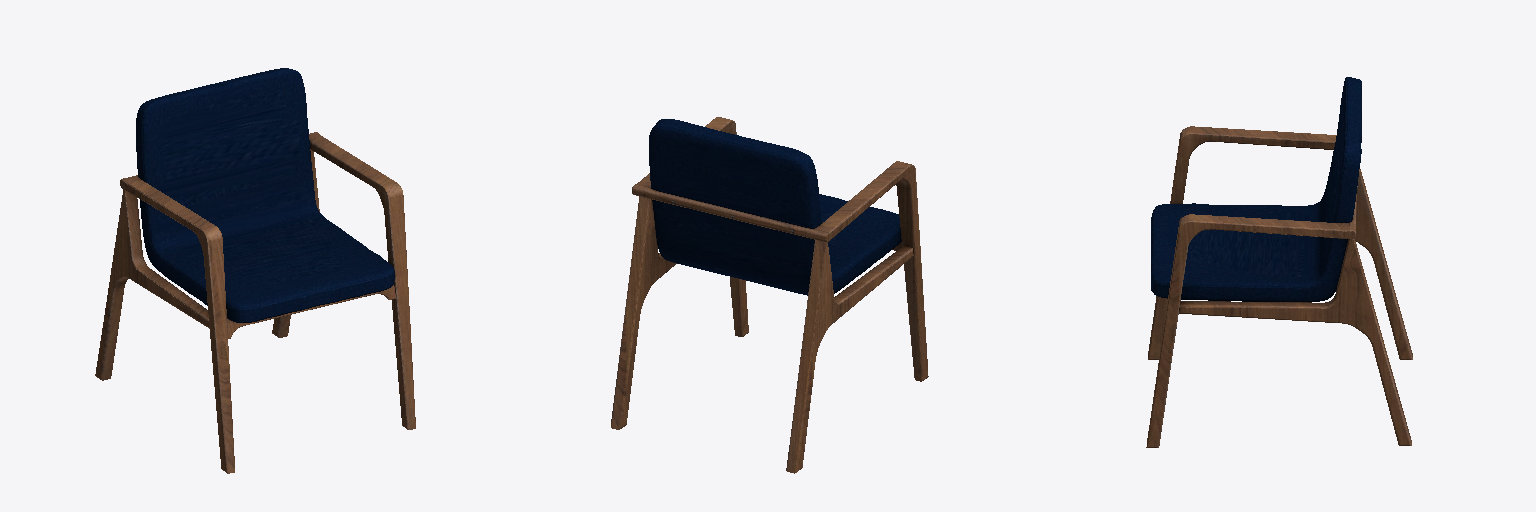
3 views of the same model, side by side, from view 1: azimuth 30°, elevation 25°; view 2: azimuth 150°, elevation 25°; view 3: azimuth 270°, elevation 25° (orthographic).
Parts seen in each view (by area): view 1: solid_001, solid_003; view 2: solid_001, solid_003; view 3: solid_003, solid_001.
Part boxes in pixels (bbox=[...]): solid_001: bbox=[136, 68, 394, 322]; solid_003: bbox=[95, 132, 415, 473]; solid_001: bbox=[649, 119, 901, 295]; solid_003: bbox=[611, 117, 928, 473]; solid_003: bbox=[1146, 126, 1412, 447]; solid_001: bbox=[1151, 77, 1361, 301].
Bounding box in the file's own units: 0.5583 × 0.7968 × 0.6574.
1 materials, 1 textured.